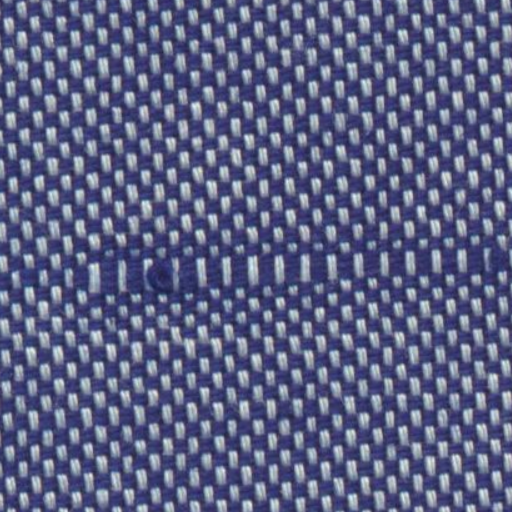DaiSha: (61, 236, 492, 298)
